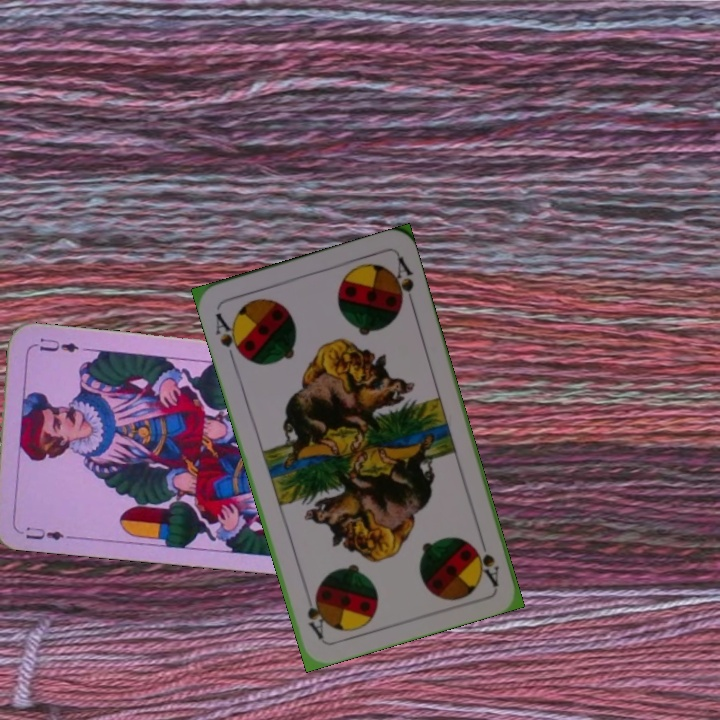EU: (22, 522, 73, 543)
SA: (211, 308, 247, 364), (470, 530, 502, 589)
